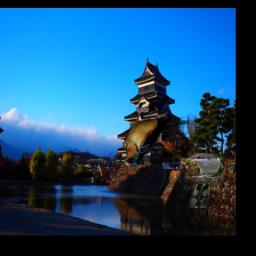Cuckoo: (183, 153, 225, 208)
Swallow: (121, 117, 190, 167)
